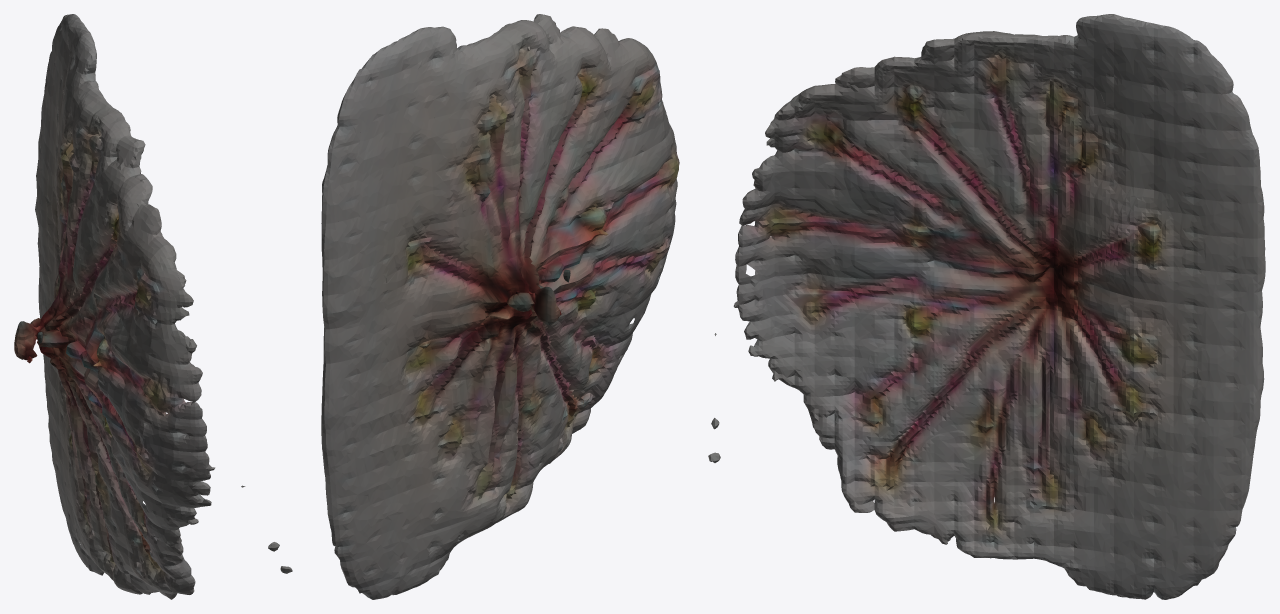
Rendered from sundew.glb.
3 renders of one model, left to right at view 1: azimuth 30°, elevation 25°; view 2: azimuth 150°, elevation 25°; view 3: azimuth 270°, elevation 25°, orthographic. The views are drawn at different scales.
Visible parts, largest first — view 1: world; view 2: world; view 3: world.
Part boxes in pixels (bbox=[...]): world: bbox=[14, 14, 292, 599]; world: bbox=[321, 14, 679, 599]; world: bbox=[708, 14, 1265, 599].
Size of the model in its own units: 0.1172 by 0.45 by 0.3933.
Materials: 1 (1 with a texture image).
